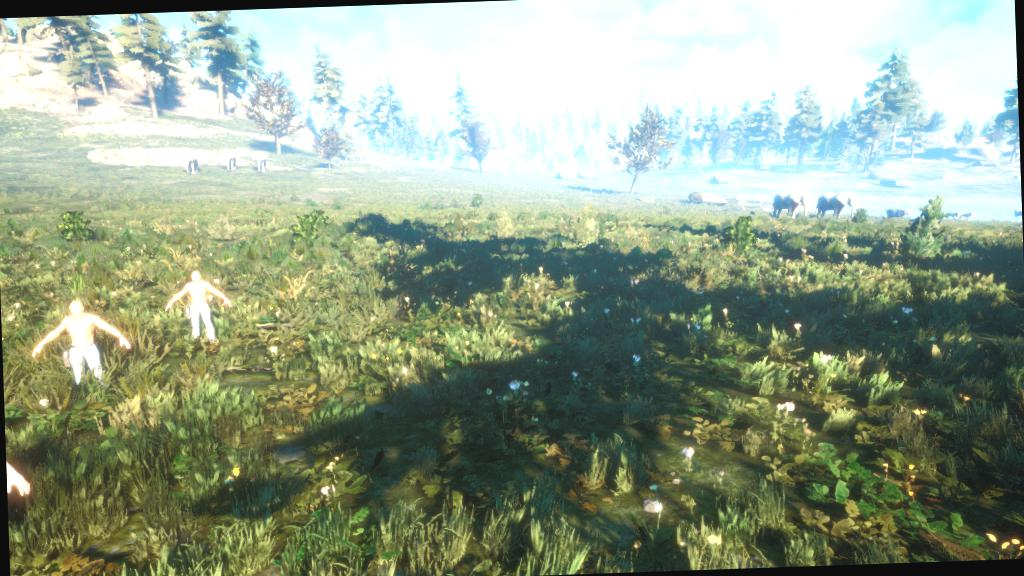elephant: (770, 182, 814, 222), (816, 182, 858, 223), (174, 144, 208, 188), (248, 146, 280, 180), (219, 143, 245, 175)
human: (28, 284, 136, 404), (147, 247, 242, 354)
